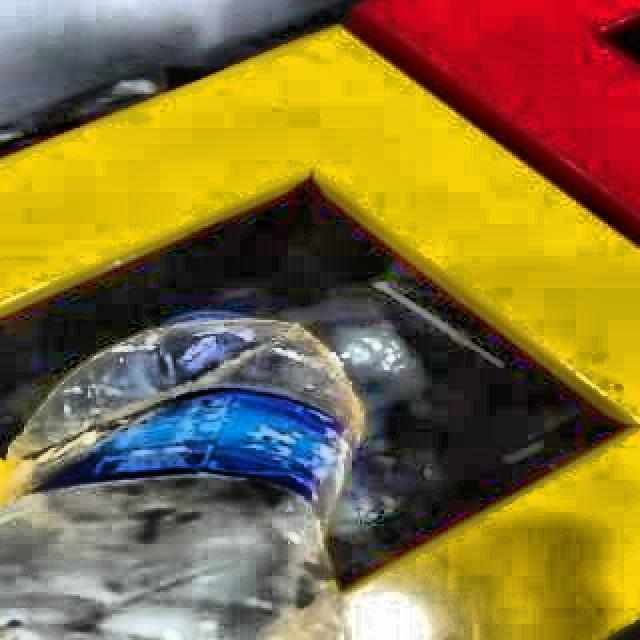plastic: (0, 313, 365, 640)
